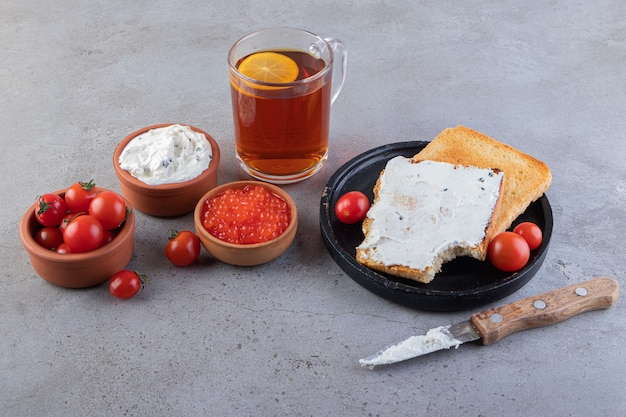knife: (356, 275, 620, 368)
